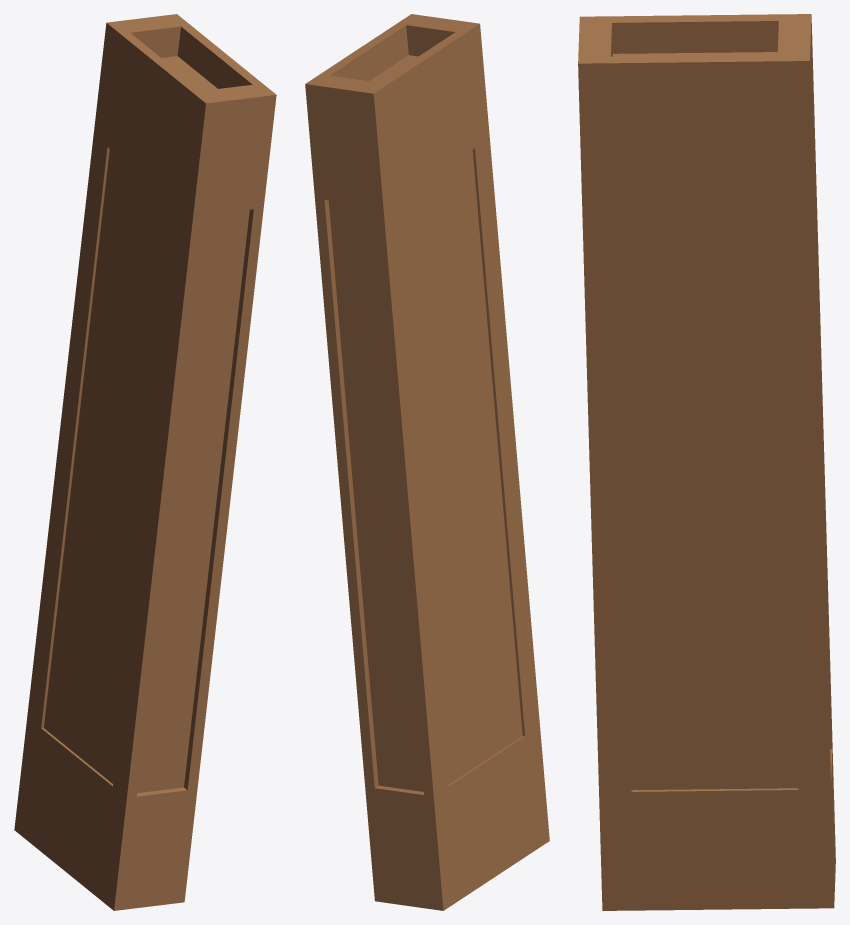
Rendered from tutBOXXX.glb.
The picture shows the model from 3 angles, left to right: view 1: azimuth 30°, elevation 25°; view 2: azimuth 150°, elevation 25°; view 3: azimuth 270°, elevation 25°; orthographic projection. The views are drawn at different scales.
Parts seen in each view (by area): view 1: Cube.814; view 2: Cube.814; view 3: Cube.814.
Part boxes in pixels (x1,y1,x2,y2): Cube.814: (14,14,276,910); Cube.814: (305,14,549,910); Cube.814: (578,14,835,910).
Size of the model in its own units: 2.82 by 14.07 by 3.63.
